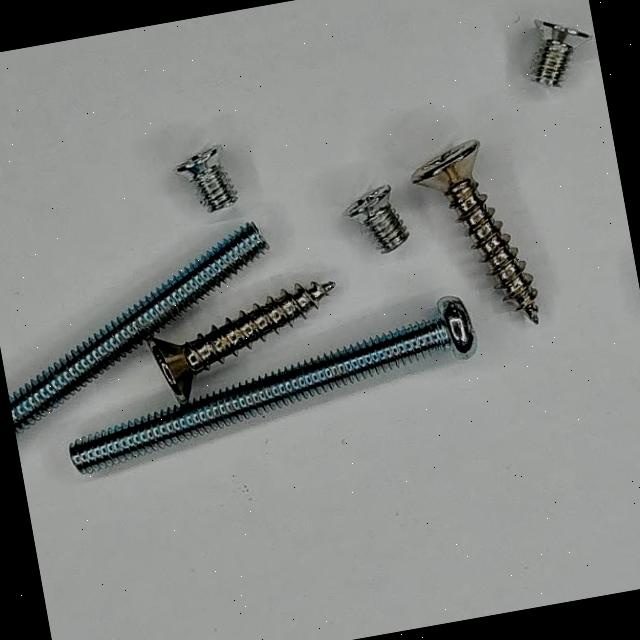Screw: (69, 297, 478, 474), (8, 222, 268, 435), (412, 141, 539, 322), (148, 282, 335, 402), (343, 184, 410, 252), (175, 144, 238, 211), (534, 19, 592, 86)
